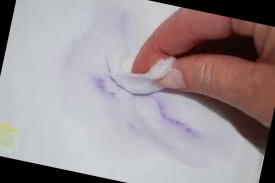ink: (157, 107, 197, 136), (86, 75, 114, 98)
